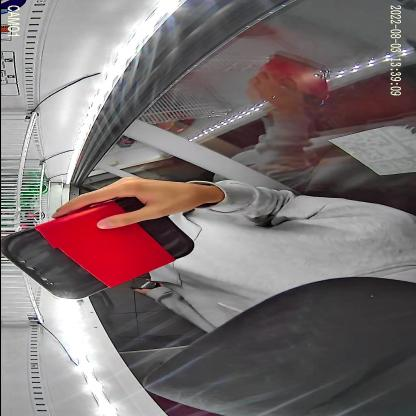red: (0, 195, 194, 301)
